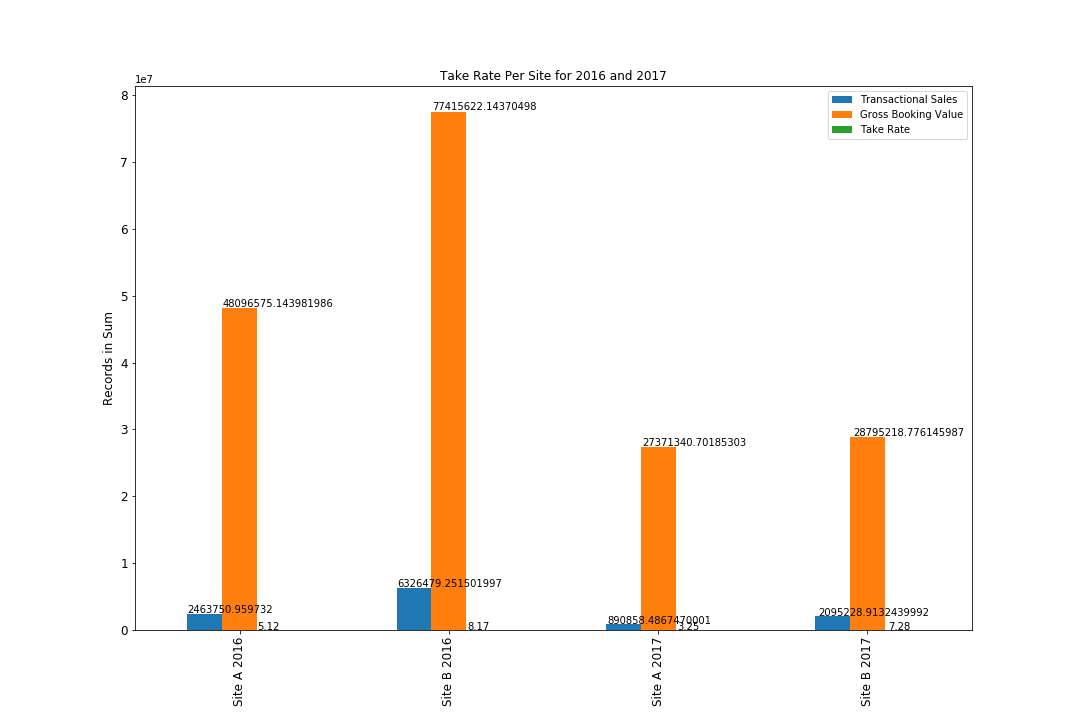

What the dashboard file says about the page in this screenshot:
{"tool":"tableau","page":{"name":"BarChart","canvas":[1000,800],"ordinal":1},"visuals":[{"type":"filter","title":"All-Viz-1","param":"[federated.0fqd9971pobdc41fchzsx0ctk5mb].[none:Site:nk]","box":[8,8,143,75]},{"type":"filter","title":"All-Viz-1","param":"[federated.0fqd9971pobdc41fchzsx0ctk5mb].[none:Year of Date Id:nk]","box":[151,8,182,75]},{"type":"filter","title":"All-Viz-1","param":"[federated.0fqd9971pobdc41fchzsx0ctk5mb].[none:Measure Names:nk]","box":[333,8,353,75]},{"type":"filter","title":"All-Viz-1","param":"[federated.0fqd9971pobdc41fchzsx0ctk5mb].[none:Supplier Type:nk]","box":[686,8,146,75]},{"type":"filter","title":"All-Viz-1","param":"[federated.0fqd9971pobdc41fchzsx0ctk5mb].[none:Person Type:nk]","box":[832,8,160,75]},{"type":"worksheet","title":"All-Viz-1","mark":"Automatic","rows":["Measure Names","Person Type","Site","Supplier Type"],"cols":["Measure Values"],"box":[8,83,984,709]}]}

Visuals, with their boxes on the page's 1000x800 design canvas (x1, y1, x2, y2). These are canvas units, not pixel positions in the 1080x720 screenshot, which may show the page scaled, cropped or inside an application window:
"All-Viz-1" filter: bbox(8, 8, 151, 83)
"All-Viz-1" filter: bbox(151, 8, 333, 83)
"All-Viz-1" filter: bbox(333, 8, 686, 83)
"All-Viz-1" filter: bbox(686, 8, 832, 83)
"All-Viz-1" filter: bbox(832, 8, 992, 83)
"All-Viz-1" worksheet: bbox(8, 83, 992, 792)
